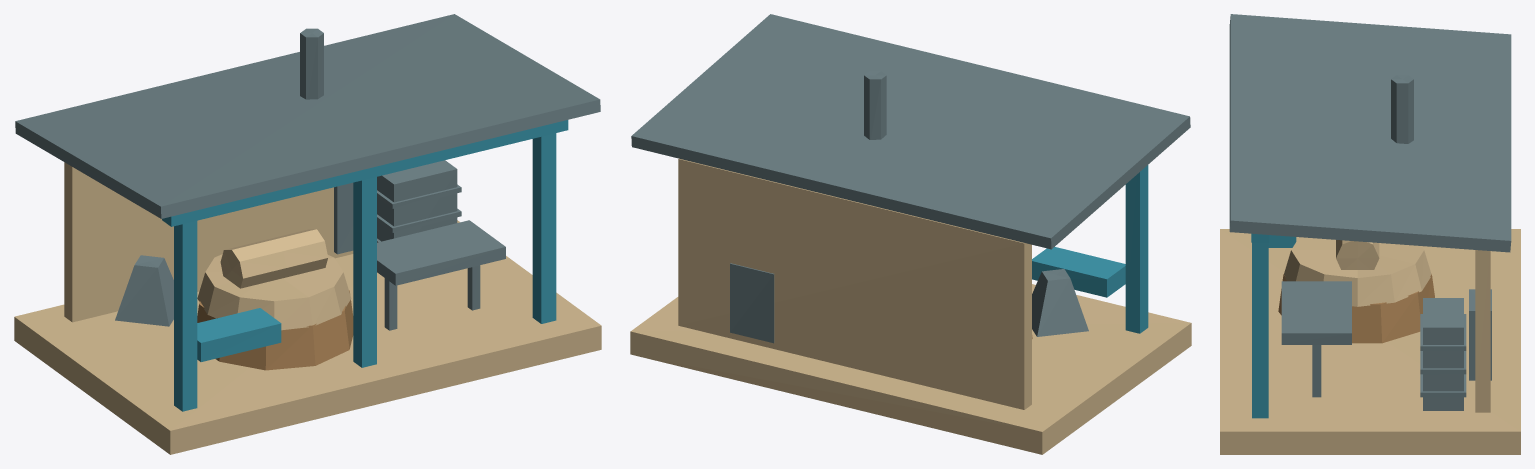
The model's file is chocolate-workshop.source.glb.
3 renders of one model, left to right at view 1: azimuth 30°, elevation 25°; view 2: azimuth 150°, elevation 25°; view 3: azimuth 270°, elevation 25°, orthographic. The views are drawn at different scales.
Visible parts, largest first — view 1: chocolate-workshop-shallow-galvanized-workshop-roof-mesh, chocolate-workshop-cream-workshop-foundation-mesh, chocolate-workshop-cream-plaster-rear-shell-mesh, chocolate-workshop-warm-timber-service-post-mesh (×3), chocolate-workshop-readable-round-melanger-grinding-bowl-mes, chocolate-workshop-narrow-tempering-worktable-mesh, chocolate-workshop-timber-roof-beam-mesh, chocolate-workshop-small-empty-cooling-rack-mesh, chocolate-workshop-exposed-melanger-roller-mesh (×2), chocolate-workshop-muted-teal-melanger-base-mesh, chocolate-workshop-empty-output-shelf-mesh, chocolate-workshop-empty-cocoa-input-hopper-mesh (+4 smaller); view 2: chocolate-workshop-shallow-galvanized-workshop-roof-mesh, chocolate-workshop-cream-plaster-rear-shell-mesh, chocolate-workshop-cream-workshop-foundation-mesh, chocolate-workshop-warm-timber-service-post-mesh, chocolate-workshop-dark-power-service-box-mesh, chocolate-workshop-empty-cocoa-input-hopper-mesh, chocolate-workshop-empty-output-shelf-mesh, chocolate-workshop-thin-workshop-vent-mesh; view 3: chocolate-workshop-shallow-galvanized-workshop-roof-mesh, chocolate-workshop-cream-workshop-foundation-mesh, chocolate-workshop-readable-round-melanger-grinding-bowl-mes, chocolate-workshop-narrow-tempering-worktable-mesh, chocolate-workshop-small-empty-cooling-rack-mesh, chocolate-workshop-muted-teal-melanger-base-mesh, chocolate-workshop-warm-timber-service-post-mesh, chocolate-workshop-cream-plaster-rear-shell-mesh, chocolate-workshop-thin-workshop-vent-mesh, chocolate-workshop-empty-cooling-rack-level-mesh (×3), chocolate-workshop-exposed-melanger-roller-mesh, chocolate-workshop-dark-power-service-box-mesh (+2 smaller).
Boxes of the visible parts, bbox=[...] form: chocolate-workshop-shallow-galvanized-workshop-roof-mesh: bbox=[15, 14, 600, 218]; chocolate-workshop-cream-workshop-foundation-mesh: bbox=[14, 220, 601, 454]; chocolate-workshop-cream-plaster-rear-shell-mesh: bbox=[64, 162, 353, 322]; chocolate-workshop-warm-timber-service-post-mesh (×3): bbox=[174, 133, 556, 411]; chocolate-workshop-readable-round-melanger-grinding-bowl-mes: bbox=[197, 254, 351, 330]; chocolate-workshop-narrow-tempering-worktable-mesh: bbox=[377, 220, 505, 285]; chocolate-workshop-timber-roof-beam-mesh: bbox=[162, 120, 568, 226]; chocolate-workshop-small-empty-cooling-rack-mesh: bbox=[377, 160, 457, 241]; chocolate-workshop-exposed-melanger-roller-mesh (×2): bbox=[220, 229, 327, 288]; chocolate-workshop-muted-teal-melanger-base-mesh: bbox=[197, 290, 353, 370]; chocolate-workshop-empty-output-shelf-mesh: bbox=[197, 308, 281, 361]; chocolate-workshop-empty-cocoa-input-hopper-mesh: bbox=[115, 255, 173, 326]; chocolate-workshop-shallow-galvanized-workshop-roof-mesh: bbox=[631, 14, 1190, 249]; chocolate-workshop-cream-plaster-rear-shell-mesh: bbox=[678, 158, 1031, 409]; chocolate-workshop-cream-workshop-foundation-mesh: bbox=[630, 284, 1191, 454]; chocolate-workshop-warm-timber-service-post-mesh: bbox=[1125, 165, 1148, 333]; chocolate-workshop-dark-power-service-box-mesh: bbox=[730, 263, 774, 343]; chocolate-workshop-empty-cocoa-input-hopper-mesh: bbox=[1032, 269, 1088, 336]; chocolate-workshop-empty-output-shelf-mesh: bbox=[1032, 247, 1125, 297]; chocolate-workshop-thin-workshop-vent-mesh: bbox=[864, 71, 886, 139]; chocolate-workshop-shallow-galvanized-workshop-roof-mesh: bbox=[1229, 14, 1511, 252]; chocolate-workshop-cream-workshop-foundation-mesh: bbox=[1220, 229, 1520, 454]; chocolate-workshop-readable-round-melanger-grinding-bowl-mes: bbox=[1284, 237, 1431, 306]; chocolate-workshop-narrow-tempering-worktable-mesh: bbox=[1281, 281, 1351, 344]; chocolate-workshop-small-empty-cooling-rack-mesh: bbox=[1423, 298, 1463, 410]; chocolate-workshop-muted-teal-melanger-base-mesh: bbox=[1278, 274, 1434, 343]; chocolate-workshop-warm-timber-service-post-mesh: bbox=[1252, 242, 1268, 418]; chocolate-workshop-cream-plaster-rear-shell-mesh: bbox=[1475, 250, 1490, 412]; chocolate-workshop-thin-workshop-vent-mesh: bbox=[1391, 75, 1413, 143]; chocolate-workshop-empty-cooling-rack-level-mesh (×3): bbox=[1420, 314, 1466, 397]; chocolate-workshop-exposed-melanger-roller-mesh: bbox=[1336, 240, 1379, 269]; chocolate-workshop-dark-power-service-box-mesh: bbox=[1469, 289, 1491, 380].
Bounding box in the file's own units: 3.82 × 2.45 × 2.35.
